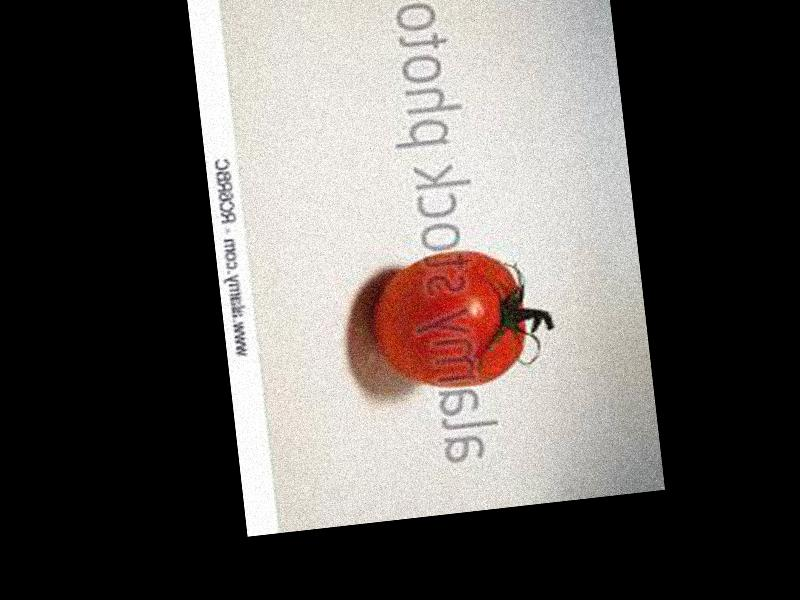Tomato: (368, 243, 533, 395)
